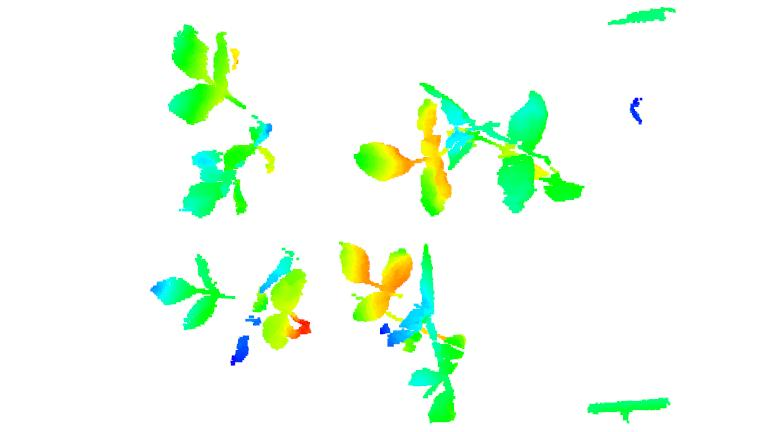mungbean: (351, 76, 586, 219), (337, 239, 468, 429), (162, 23, 278, 220), (148, 248, 318, 368)
